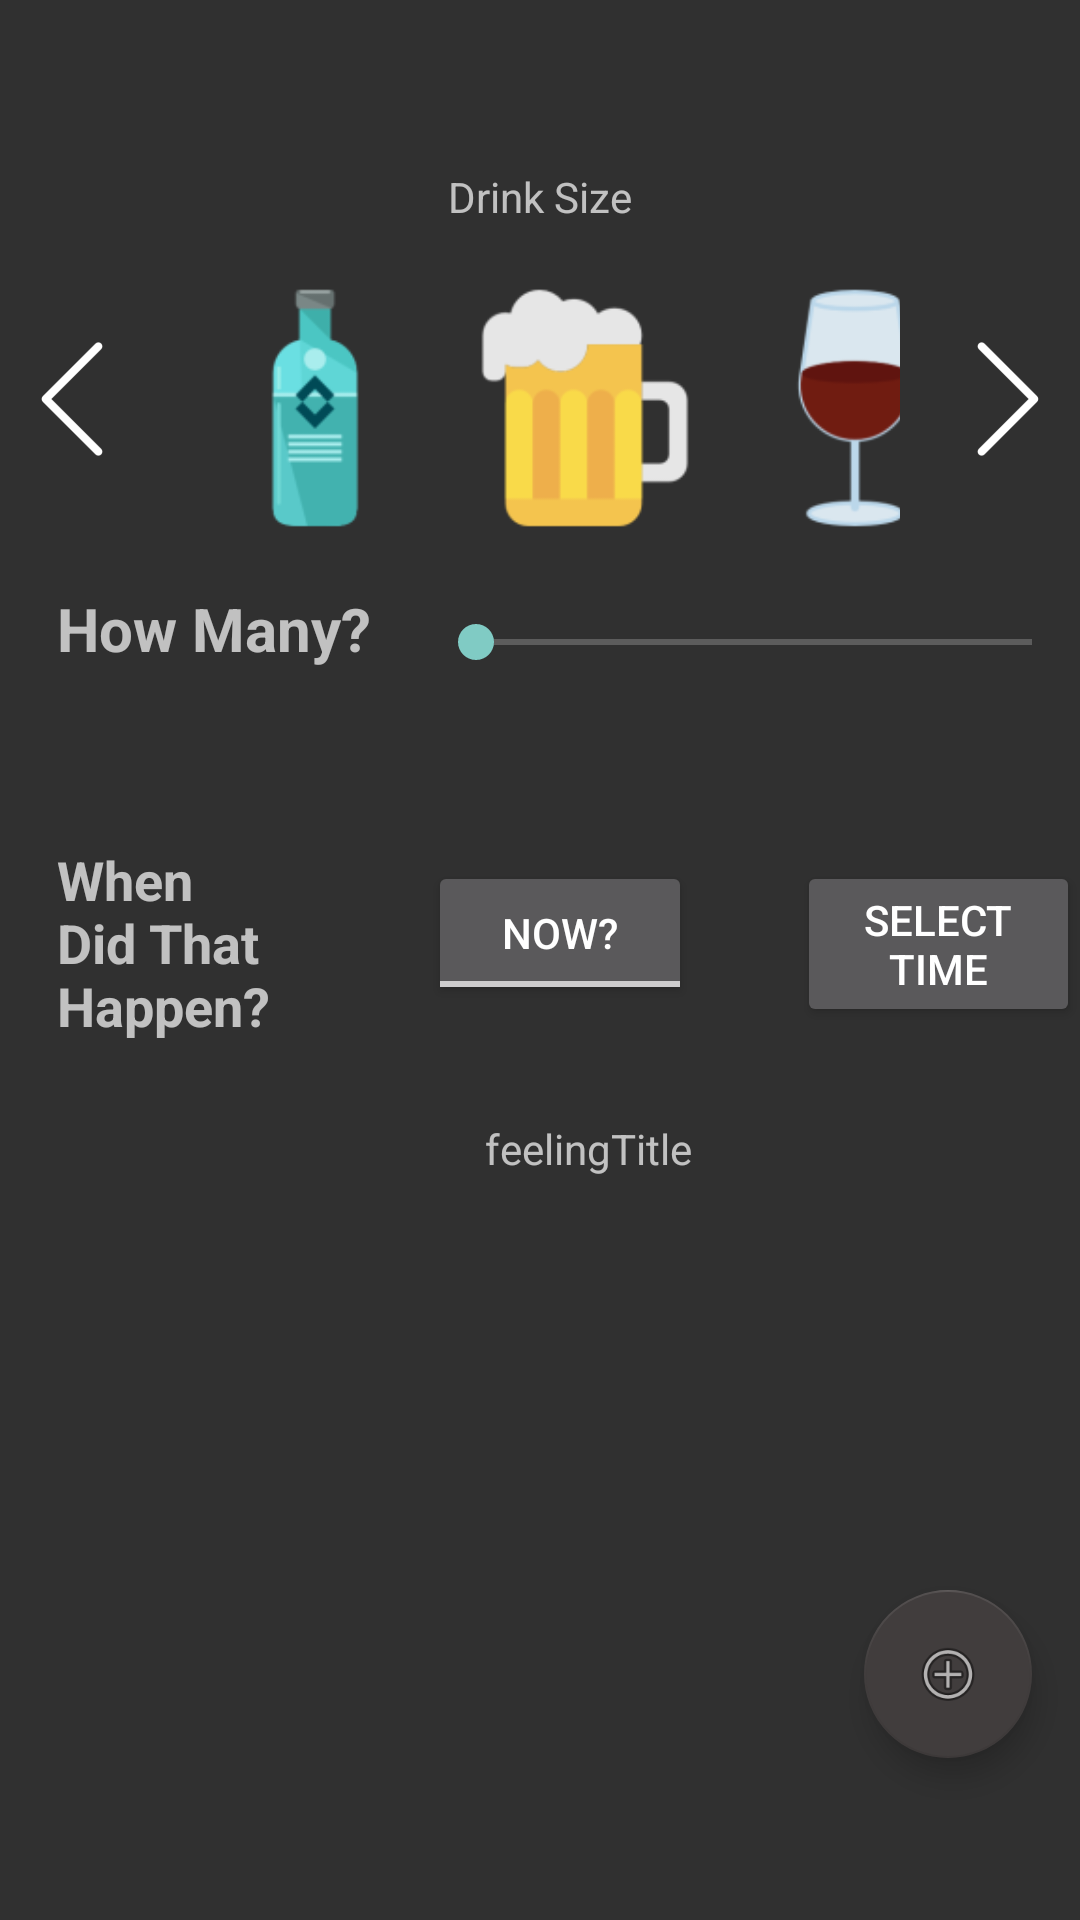

Icon click points for this 1080px×1920px phone screenshot, format point (x, y):
add: point (948, 1674)
beerpint: point (585, 408)
leftnav: point (72, 399)
rightnav: point (1008, 399)
vodka: point (315, 408)
